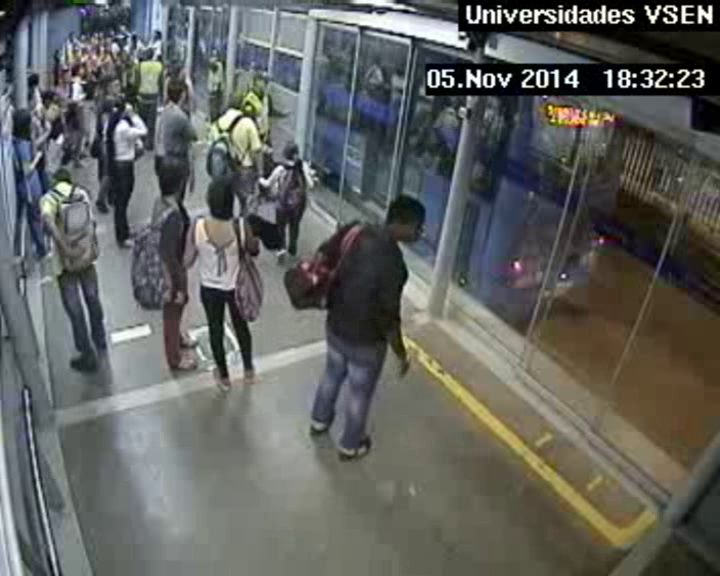person: (387, 194, 428, 242), (204, 177, 240, 218), (157, 155, 192, 197), (13, 109, 33, 134), (252, 71, 273, 94), (168, 81, 188, 104), (256, 173, 275, 193), (103, 76, 121, 96), (52, 168, 71, 186), (227, 90, 244, 109), (282, 142, 299, 161), (114, 99, 131, 117), (115, 51, 129, 66), (42, 91, 56, 106), (28, 73, 41, 89), (169, 64, 182, 79), (72, 64, 85, 77), (126, 89, 138, 102), (144, 47, 156, 59), (61, 69, 72, 82), (72, 49, 82, 60), (210, 49, 220, 60), (89, 33, 98, 45), (112, 39, 122, 49), (105, 44, 114, 54), (81, 47, 90, 56), (115, 27, 123, 36), (131, 35, 139, 43), (99, 31, 107, 39), (68, 33, 76, 40), (79, 33, 86, 41), (154, 32, 161, 40), (106, 35, 113, 43)
